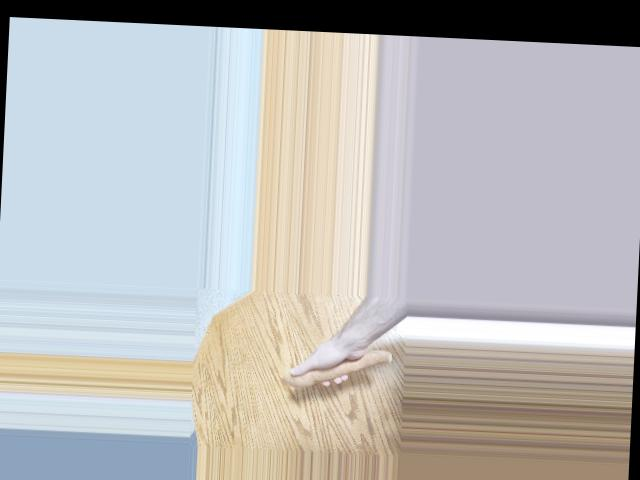sweet_potato: (284, 341, 394, 395)
